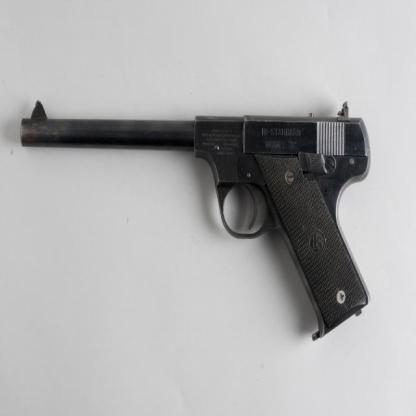weapon: (20, 99, 373, 342)
